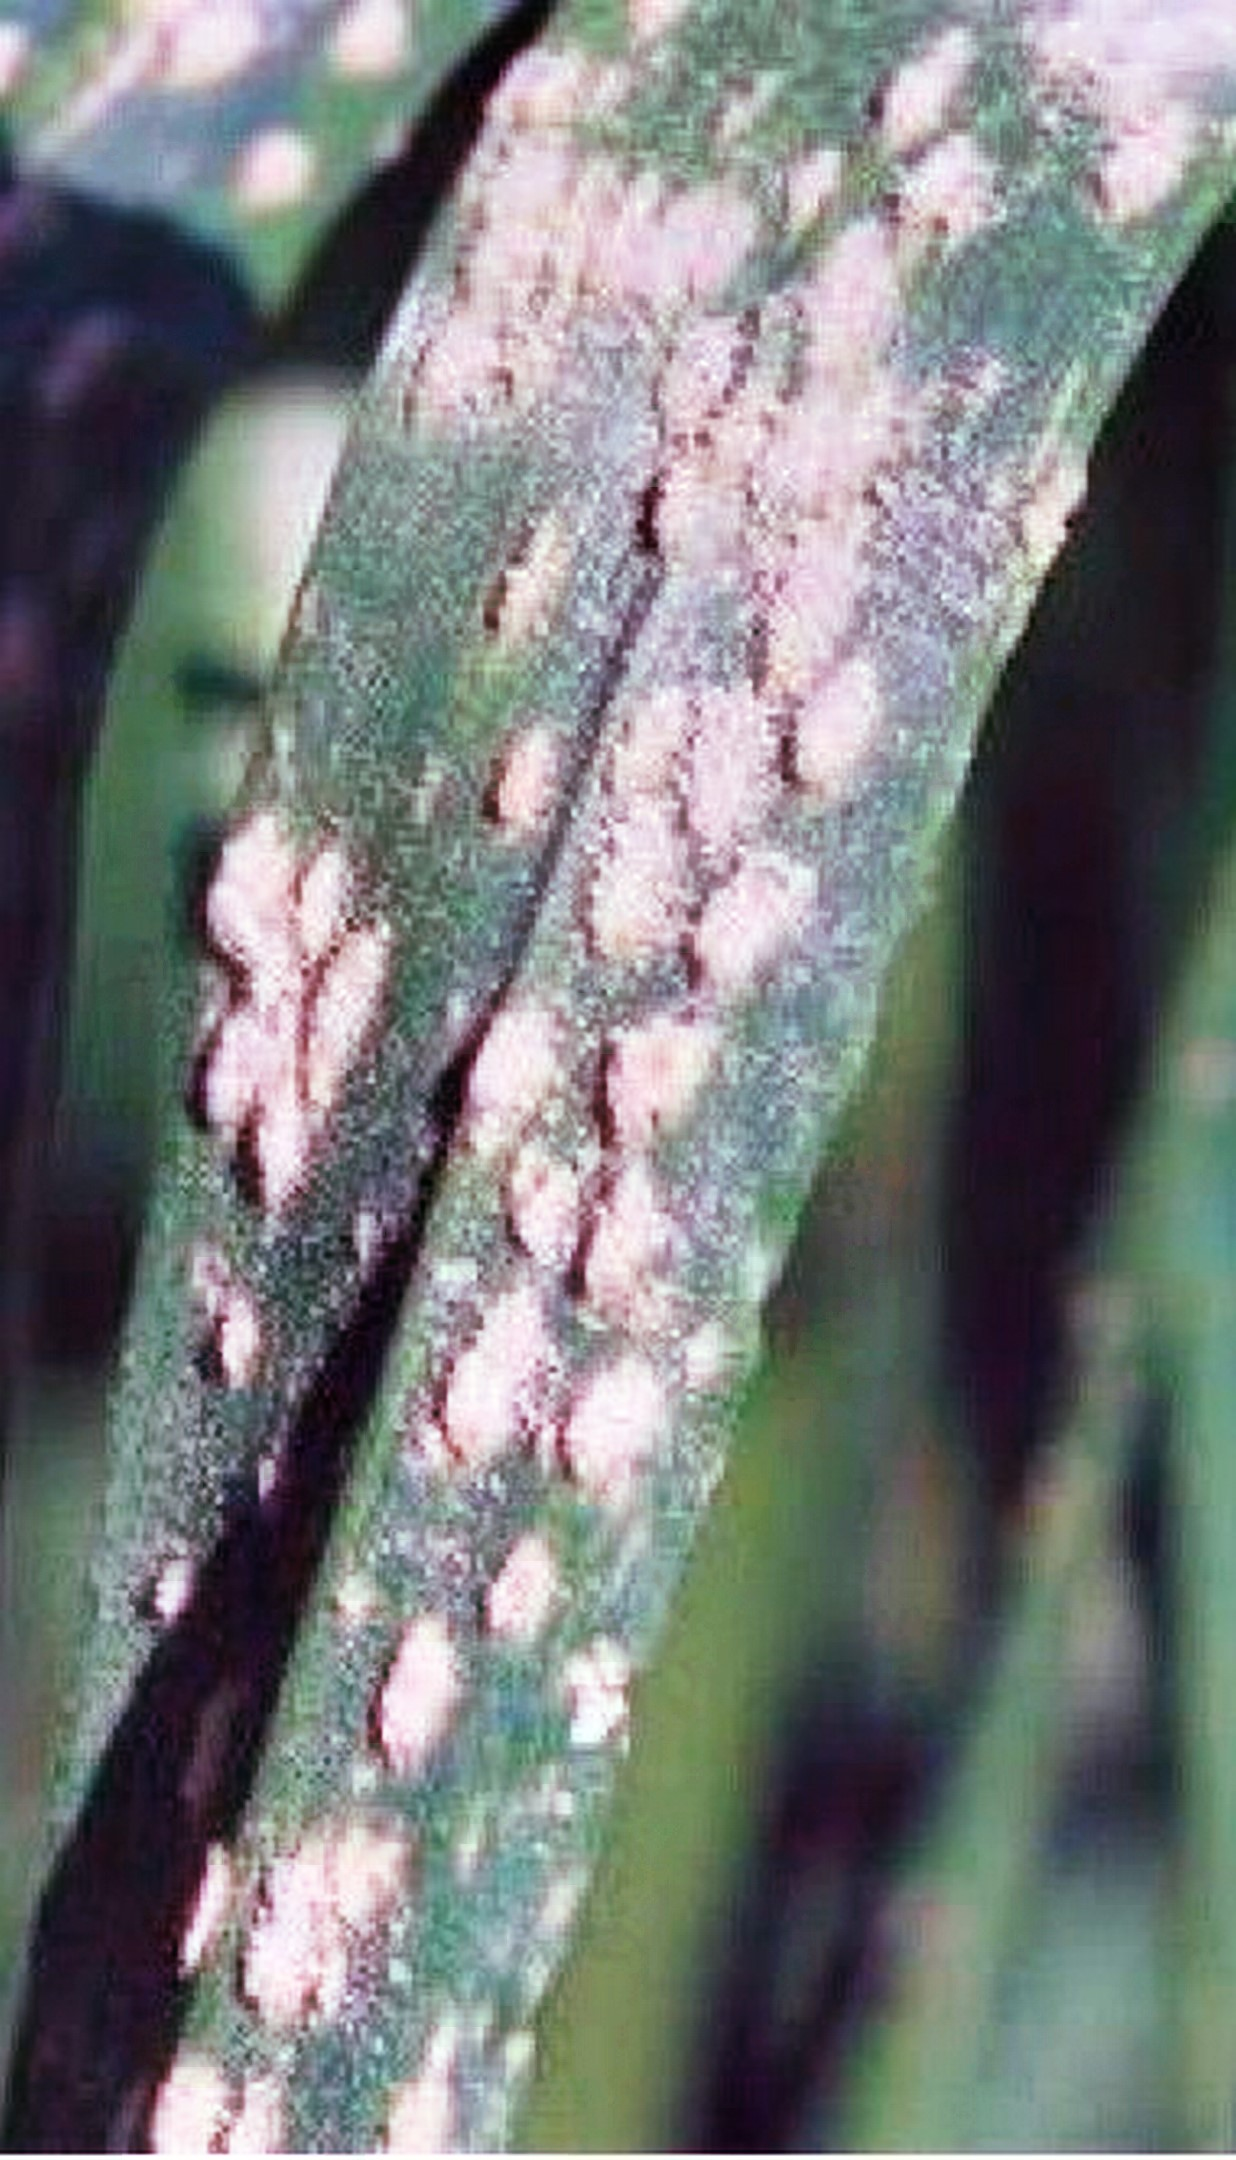Powdery Mildew: (88, 223, 1007, 1933)
